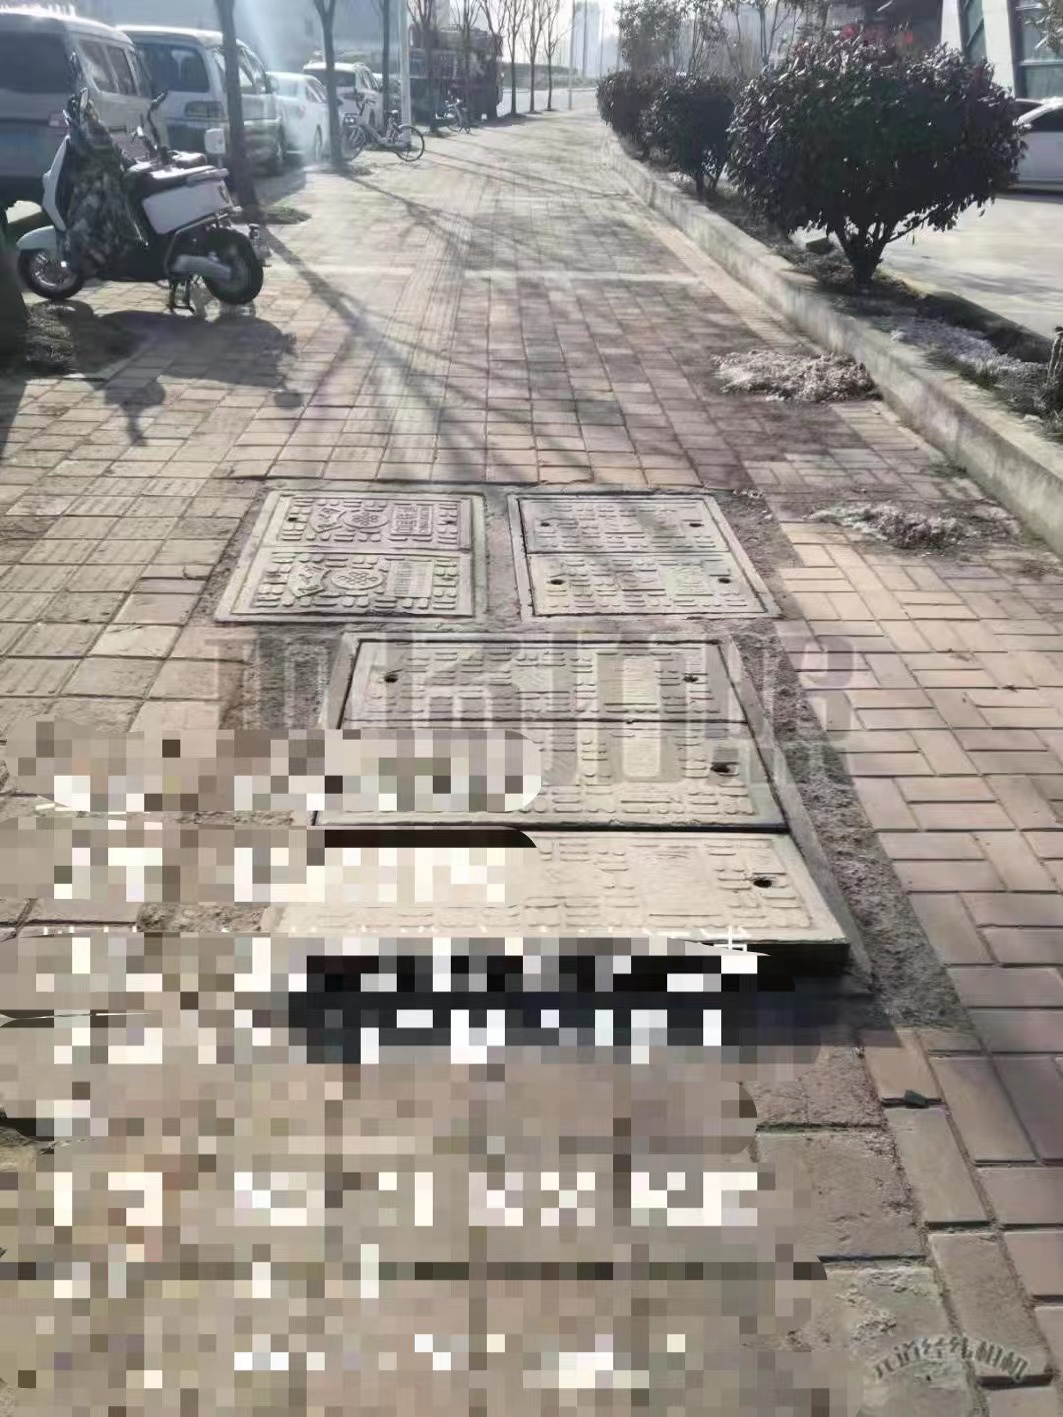well: (209, 483, 496, 630), (504, 489, 779, 622)
